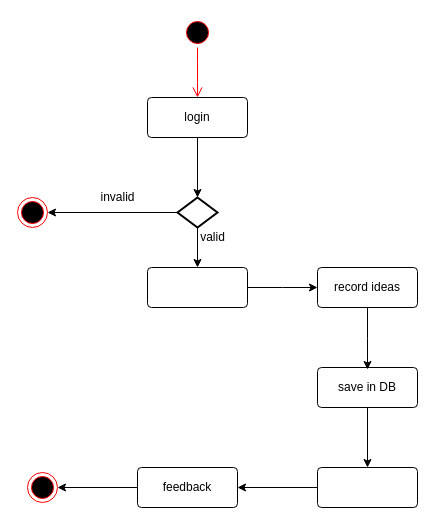
The diagram is 435 pixels wide and 525 high, and some of its shapes have lost their labels. Here are the shapes that lost their labels. From the top down, the centre of each, then its label:
At point (197, 287): "fill the form of ideas".
At point (367, 487): "evaluation".
